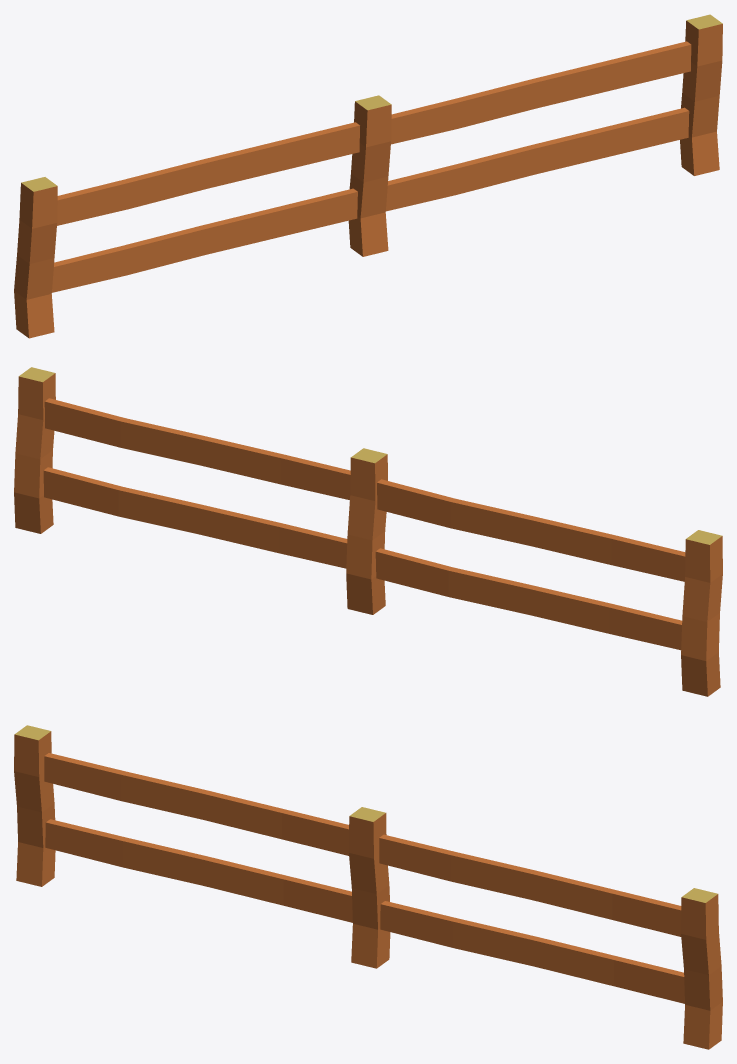
The model's file is fence1.fbx.
The picture shows the model from 3 angles, top to bottom: view 1: azimuth 30°, elevation 25°; view 2: azimuth 150°, elevation 25°; view 3: azimuth 330°, elevation 25°; orthographic projection.
Parts seen in each view (by area): view 1: Cube; view 2: Cube; view 3: Cube.
Part boxes in pixels (box(x1,y1,x2,y2)): Cube: box(14, 14, 722, 338); Cube: box(14, 367, 722, 696); Cube: box(14, 725, 722, 1049).
Size of the model in its own units: 3117 by 641 by 141.
